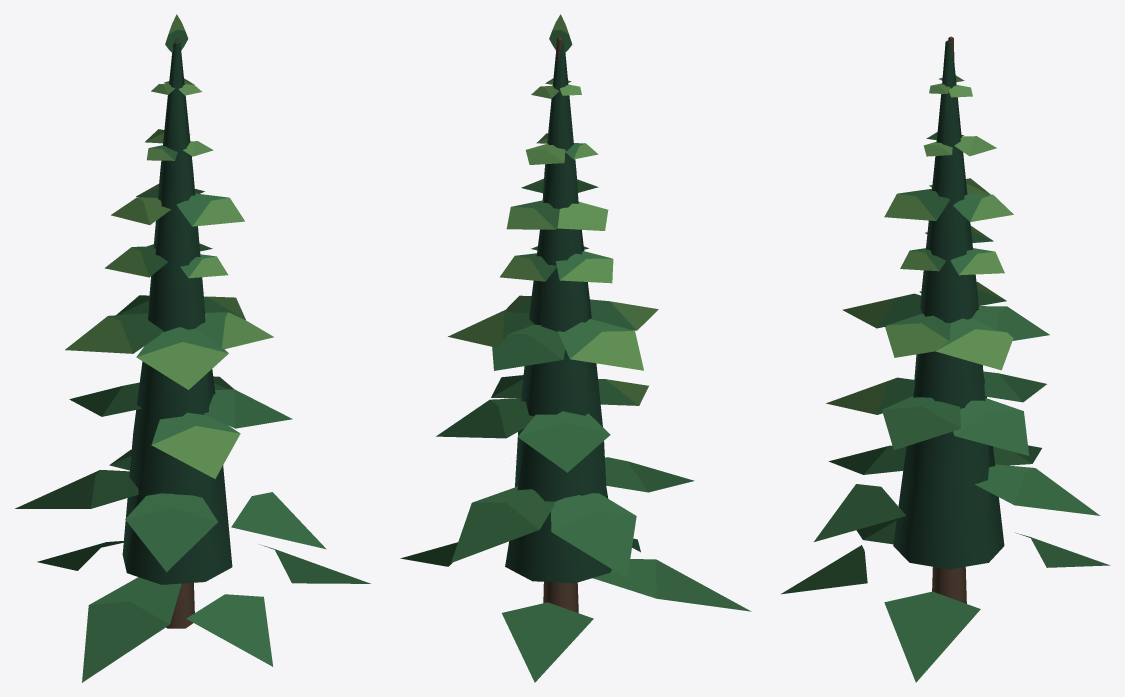
Rendered from SpruceB_FAR.glb.
The picture shows the model from 3 angles, left to right: view 1: azimuth 30°, elevation 25°; view 2: azimuth 150°, elevation 25°; view 3: azimuth 270°, elevation 25°; orthographic projection. The views are drawn at different scales.
Parts seen in each view (by area): view 1: SpruceB_FAR.needleMid, SpruceB_FAR.needleDark, SpruceB_FAR.needleLight, SpruceB_FAR.bark; view 2: SpruceB_FAR.needleMid, SpruceB_FAR.needleDark, SpruceB_FAR.needleLight, SpruceB_FAR.bark; view 3: SpruceB_FAR.needleMid, SpruceB_FAR.needleDark, SpruceB_FAR.needleLight, SpruceB_FAR.bark.
Part boxes in pixels (x1=…): SpruceB_FAR.needleMid: x1=15, y1=30, x2=370, y2=682; SpruceB_FAR.needleDark: x1=122, y1=41, x2=232, y2=584; SpruceB_FAR.needleLight: x1=65, y1=14, x2=273, y2=478; SpruceB_FAR.bark: x1=166, y1=38, x2=194, y2=628; SpruceB_FAR.needleMid: x1=400, y1=30, x2=751, y2=682; SpruceB_FAR.needleDark: x1=505, y1=43, x2=611, y2=583; SpruceB_FAR.needleLight: x1=448, y1=14, x2=658, y2=405; SpruceB_FAR.bark: x1=543, y1=38, x2=578, y2=612; SpruceB_FAR.needleMid: x1=781, y1=135, x2=1110, y2=682; SpruceB_FAR.needleDark: x1=893, y1=40, x2=1004, y2=569; SpruceB_FAR.needleLight: x1=826, y1=75, x2=1013, y2=414; SpruceB_FAR.bark: x1=932, y1=36, x2=966, y2=603.
Size of the model in its own units: 19.18 by 34.71 by 17.58.
